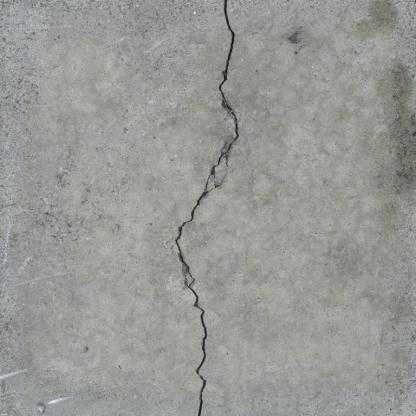crack: (177, 0, 239, 416)
